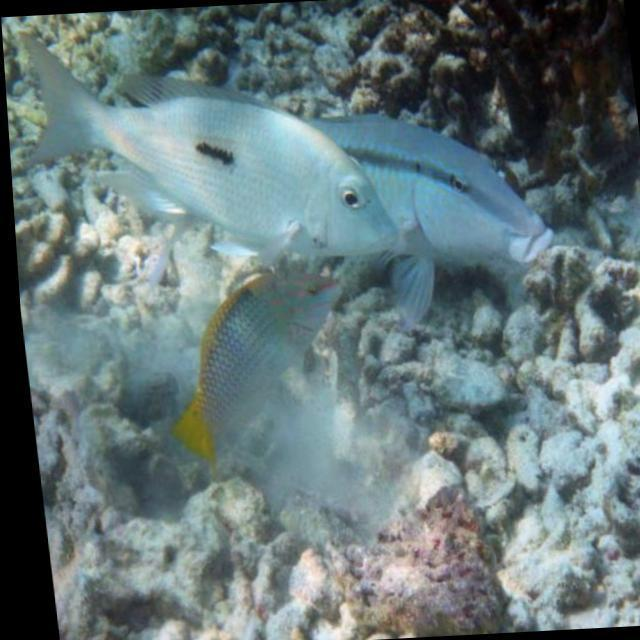Dead Coral: (462, 256, 640, 632), (363, 0, 639, 151), (37, 507, 310, 640)
